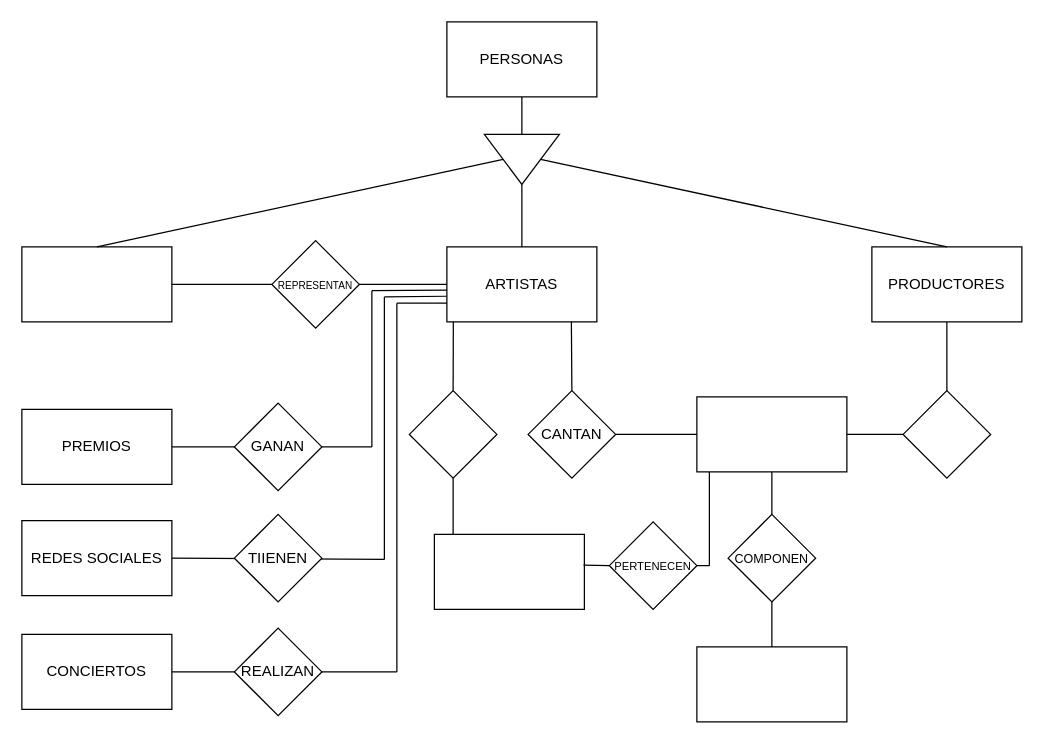
This 1044x744 diagram has some shape labels left out. The shapes that lost their labels are listed below. From the top down, each one's box as (x1, y1, x2, y2) in pixels, then its label:
(21, 246, 172, 322): REPRESENTANTES
(408, 389, 497, 478): INTERPRETAN
(696, 396, 847, 472): CANCIONES
(902, 389, 991, 478): PRODUCEN
(433, 533, 584, 609): GÉNEROS
(696, 646, 847, 722): DISCOS
